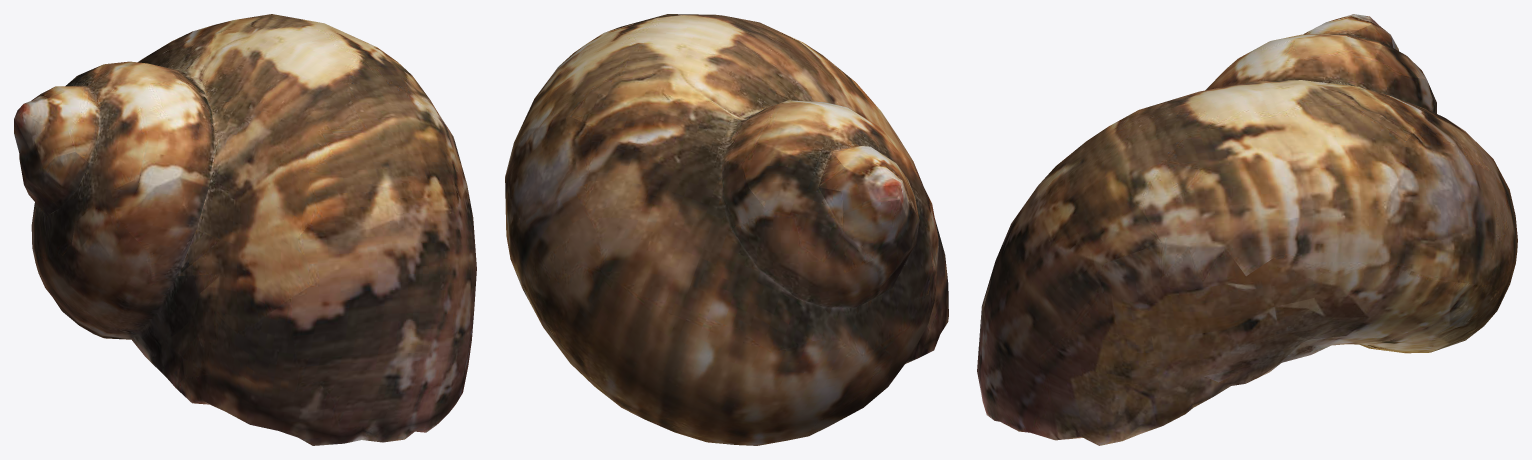
Rendered from seashell.fbx.
The picture shows the model from 3 angles, left to right: view 1: azimuth 30°, elevation 25°; view 2: azimuth 150°, elevation 25°; view 3: azimuth 270°, elevation 25°; orthographic projection. The views are drawn at different scales.
Visible parts, largest first — view 1: Object_2; view 2: Object_2; view 3: Object_2.
Boxes of the visible parts, <box> form: Object_2: <box>14,14,476,445</box>; Object_2: <box>505,14,948,445</box>; Object_2: <box>977,14,1517,445</box>.
Bounding box in the file's own units: 10.44 × 8.29 × 12.55.
1 material, 1 textured.
